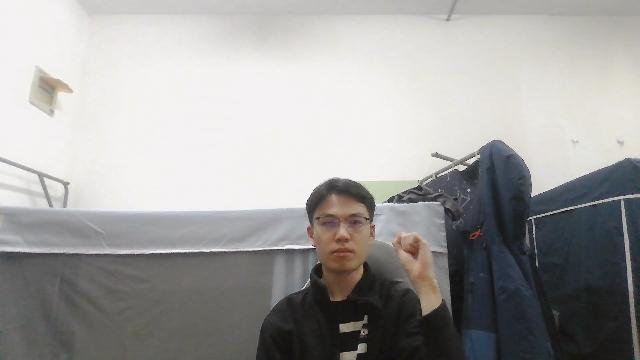ten: (392, 230, 439, 295)
